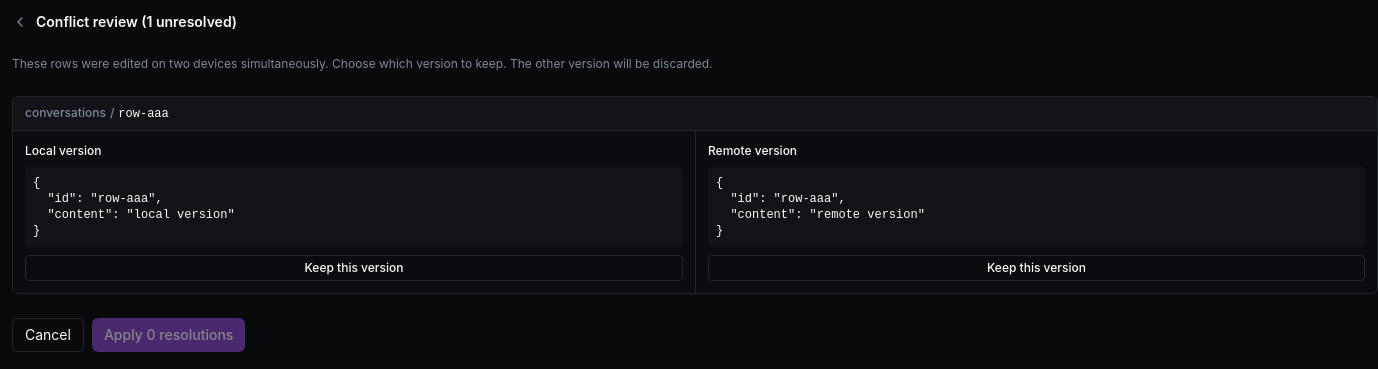
Test: ConflictReview › apply button is enabled when all conflicts have resolutions
The width and height of the screenshot is (1378, 369).
Click the button with test id "keep-local-c-1". click: {"x": 354, "y": 268}
box: [25,255,683,281]
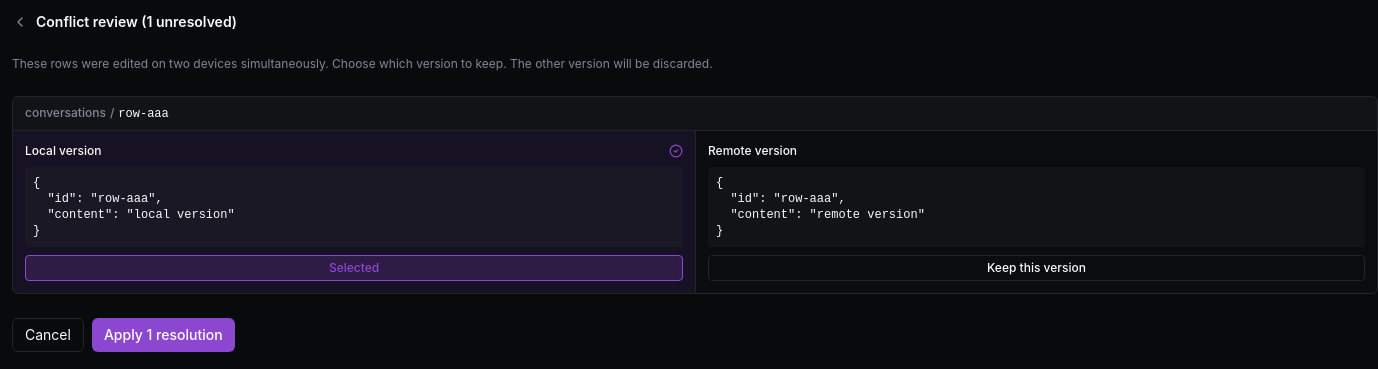
Now the button with test id "apply-resolutions-btn" is enabled, box [92,318,235,352]
